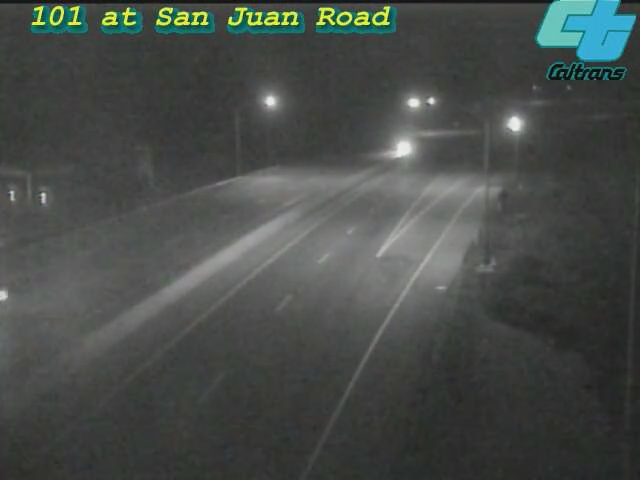vehicle: (378, 123, 428, 173), (488, 100, 538, 150)
